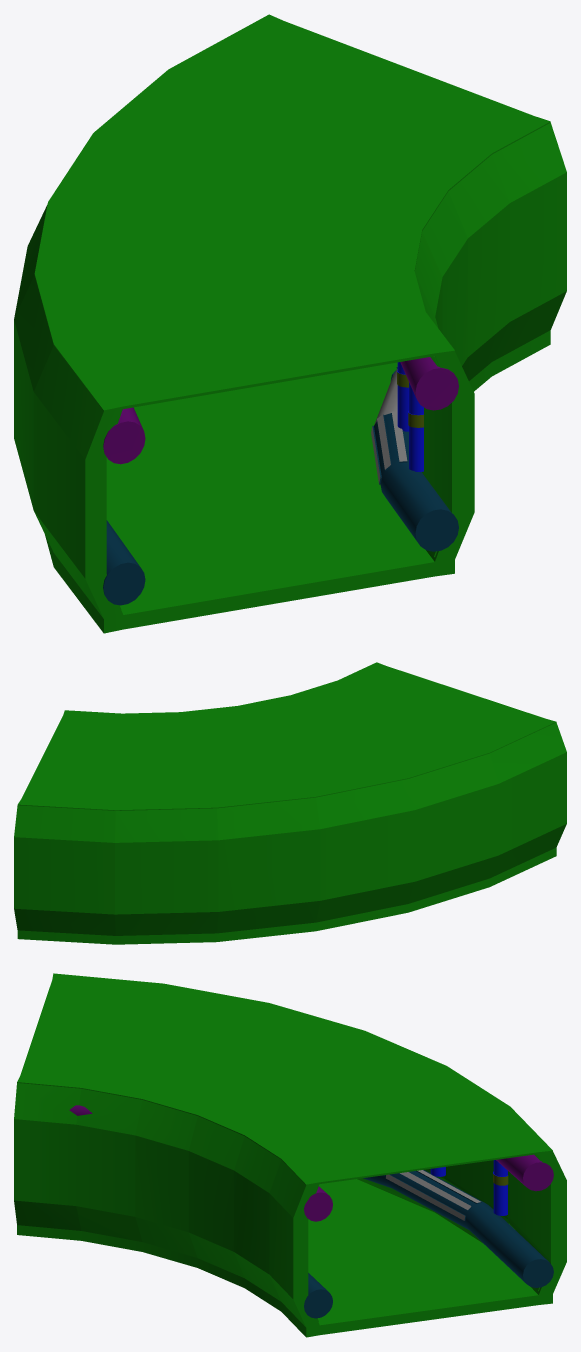
File: Turning couloir 2.fbx
The picture shows the model from 3 angles, top to bottom: view 1: azimuth 30°, elevation 25°; view 2: azimuth 150°, elevation 25°; view 3: azimuth 270°, elevation 25°; orthographic projection. The views are drawn at different scales.
Visible parts, largest first — view 1: Turning couloir; view 2: Turning couloir; view 3: Turning couloir.
Part boxes in pixels (x1,y1,x2,y2): Turning couloir: (14, 14, 566, 633); Turning couloir: (14, 662, 566, 944); Turning couloir: (14, 973, 566, 1337).
Size of the model in its own units: 5108 by 1660 by 5439.
